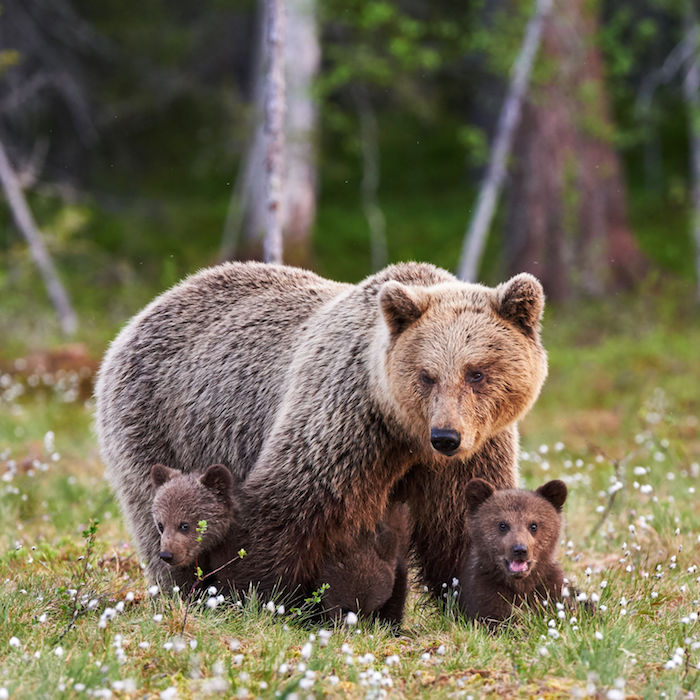bear: (367, 268, 553, 463), (456, 475, 571, 582), (138, 457, 241, 569)
